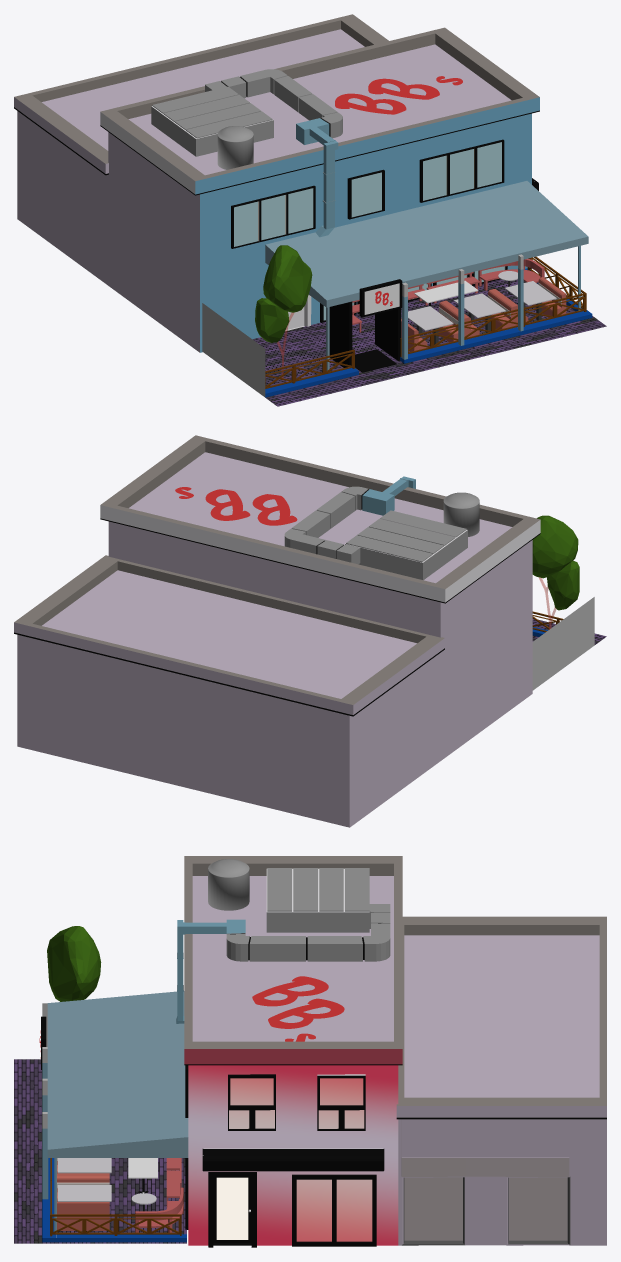
3 views of the same model, one above another, from view 1: azimuth 30°, elevation 25°; view 2: azimuth 150°, elevation 25°; view 3: azimuth 270°, elevation 25° (orthographic). The views are drawn at different scales.
Parts seen in each view (by area): view 1: House, RoofShade, Floor, Pipe, Icosphere, FrontDoor.002, BBSIgn, Fence006, Icosphere.001, FrontDoor.001, Curve.001, Curve (+12 smaller); view 2: House, Pipe, Floor, Icosphere, Icosphere.001, Curve, Curve.001; view 3: House, RoofShade, Floor, Pipe, Icosphere, Cube.001, Curve, Curve.001, fence004, fence005, Table.001, Table.002 (+3 smaller).
Part boxes in pixels (x1,y1,x2,y2): House: [14, 14, 539, 352]; RoofShade: [265, 181, 588, 370]; Floor: [202, 245, 606, 406]; Pipe: [205, 69, 342, 237]; Icosphere: [263, 245, 312, 312]; FrontDoor.002: [329, 301, 352, 367]; BBSIgn: [359, 279, 402, 317]; Fence006: [265, 349, 354, 388]; Icosphere.001: [255, 298, 289, 342]; FrontDoor.001: [375, 308, 400, 360]; Curve.001: [368, 78, 439, 99]; Curve: [335, 93, 406, 114]; House: [14, 435, 540, 827]; Pipe: [284, 476, 415, 564]; Floor: [532, 597, 606, 690]; Icosphere: [532, 515, 578, 578]; Icosphere.001: [547, 560, 579, 610]; Curve: [252, 494, 297, 525]; Curve.001: [205, 489, 250, 520]; House: [184, 856, 606, 1247]; RoofShade: [47, 991, 188, 1157]; Floor: [14, 1003, 186, 1243]; Pipe: [176, 904, 390, 1023]; Icosphere: [47, 926, 101, 1001]; Cube.001: [57, 1202, 109, 1230]; Curve: [252, 976, 328, 1006]; Curve.001: [268, 998, 344, 1028]; fence004: [115, 1214, 181, 1235]; fence005: [50, 1214, 116, 1235]; Table.001: [57, 1185, 111, 1201]; Table.002: [57, 1158, 111, 1173].
Bounding box in the file's own units: 8.01 × 4.35 × 10.19.
Materials: 40 (2 with a texture image).
